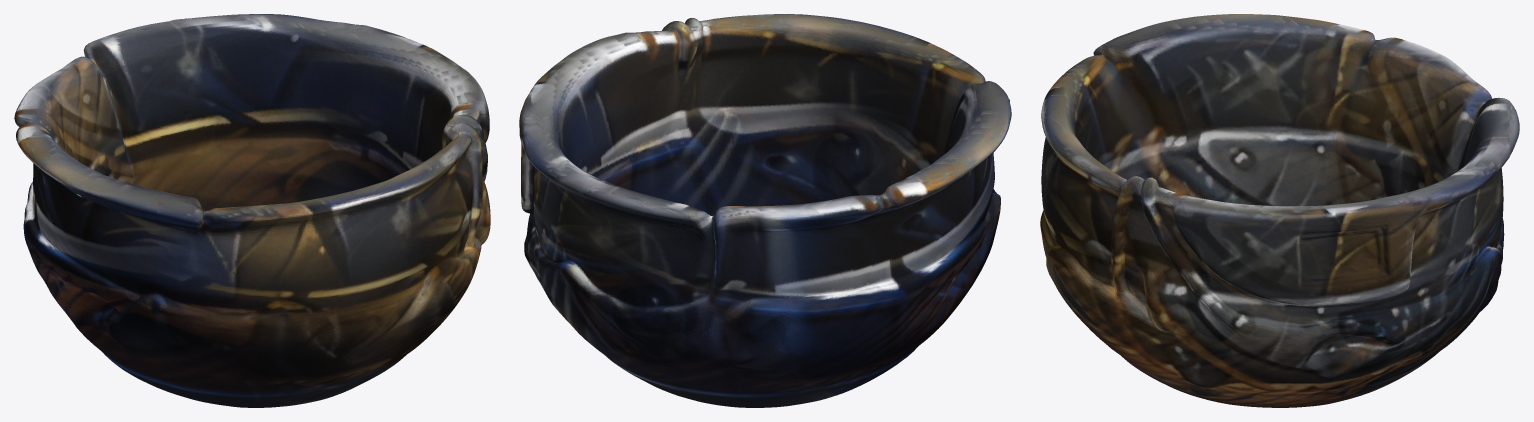
Rendered from sembelami_alms_basket.glb.
3 renders of one model, left to right at view 1: azimuth 30°, elevation 25°; view 2: azimuth 150°, elevation 25°; view 3: azimuth 270°, elevation 25°, orthographic.
Size of the model in its own units: 1.97 by 1.15 by 1.97.
1 material, 1 textured.
